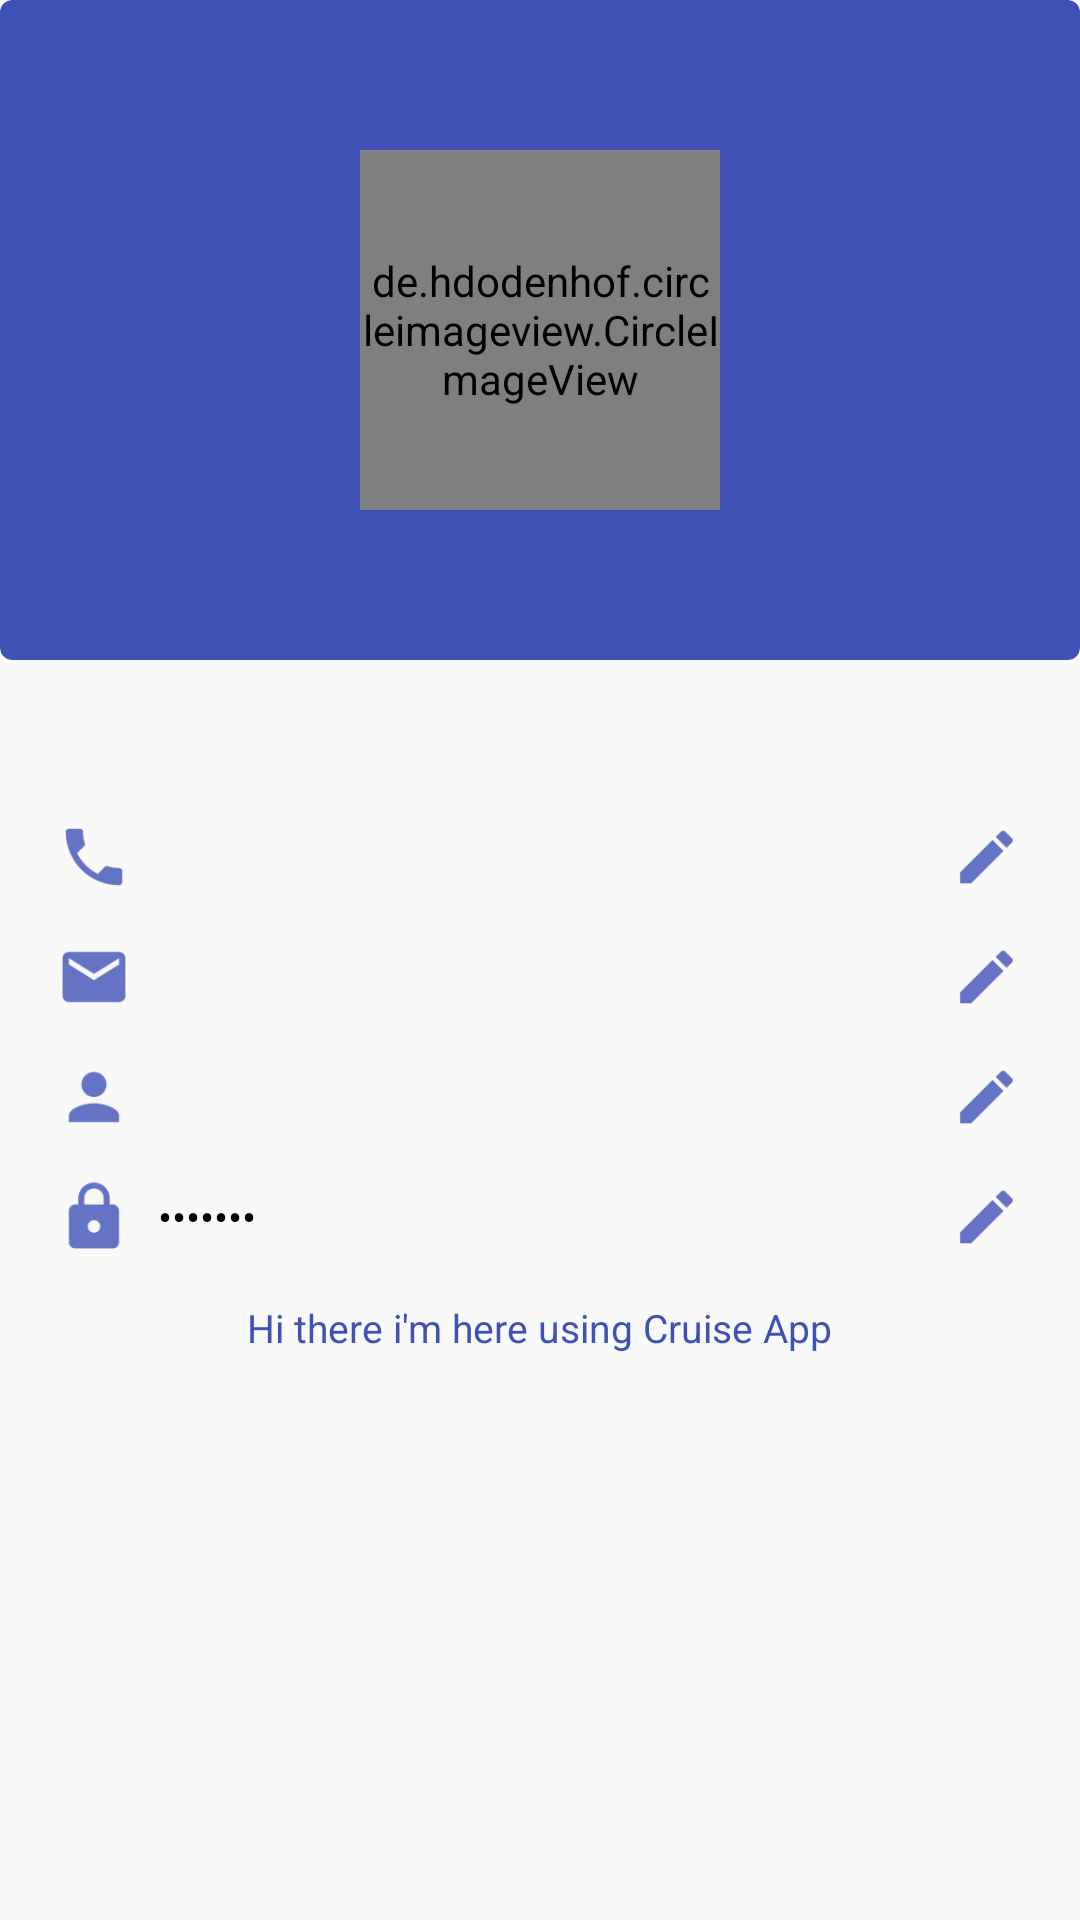

Screen size 1080*1920. Icon name, then its center in pixels as [x,y]:
mail: [94,977]
pass: [94,1215]
person: [94,1097]
phone: [94,857]
upd: [986,857], [986,977], [986,1097], [986,1217]
